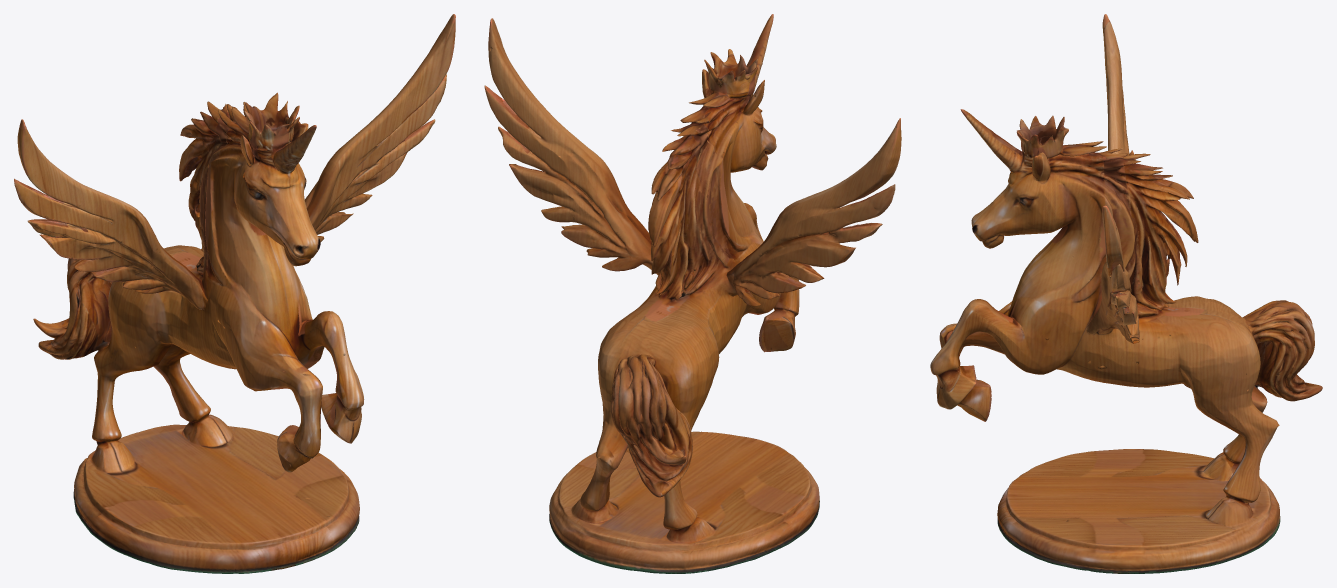
Rendered from VAULTSEER.glb.
3 renders of one model, left to right at view 1: azimuth 30°, elevation 25°; view 2: azimuth 150°, elevation 25°; view 3: azimuth 270°, elevation 25°, orthographic. The views are drawn at different scales.
Size of the model in its own units: 1.99 by 2 by 1.72.
1 material, 1 textured.
